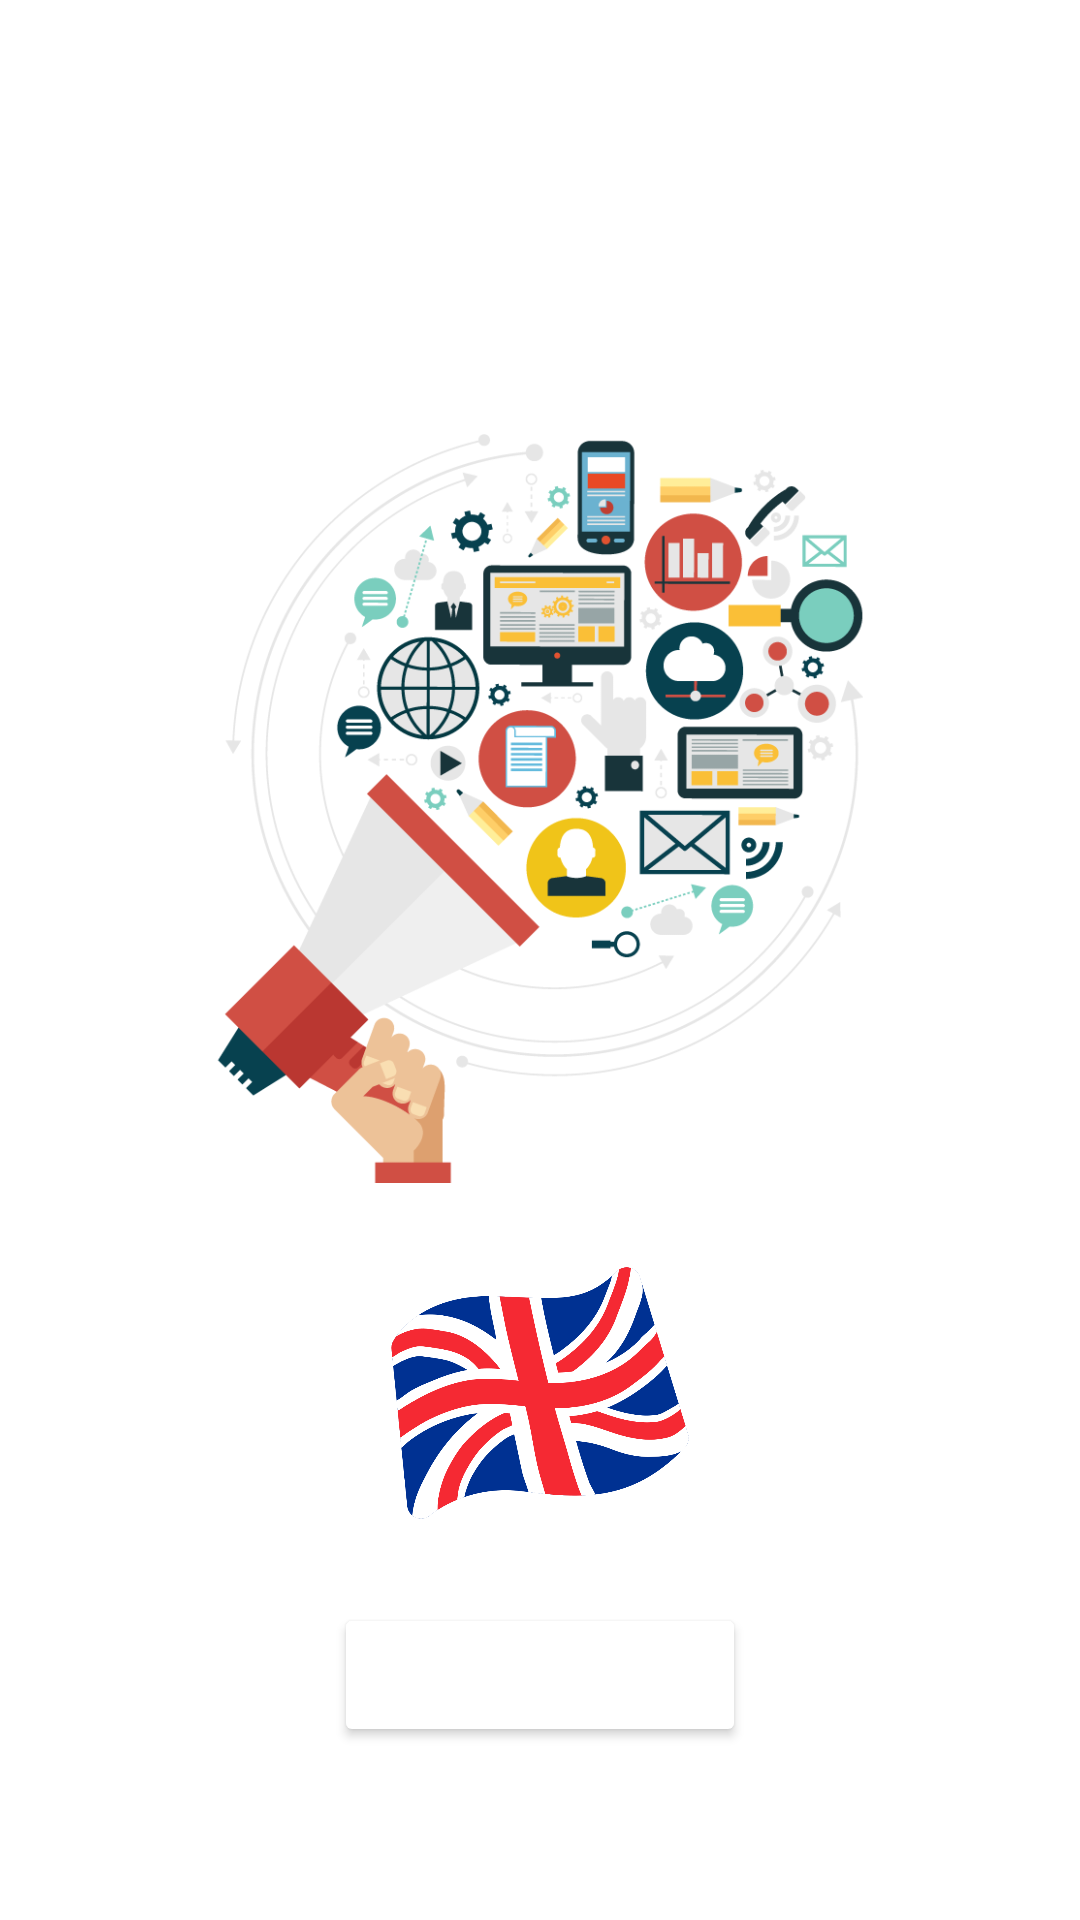

Icon click points for this 1080w x 1920h phone screenshot, format [x,y]:
flag: [540,1393]
